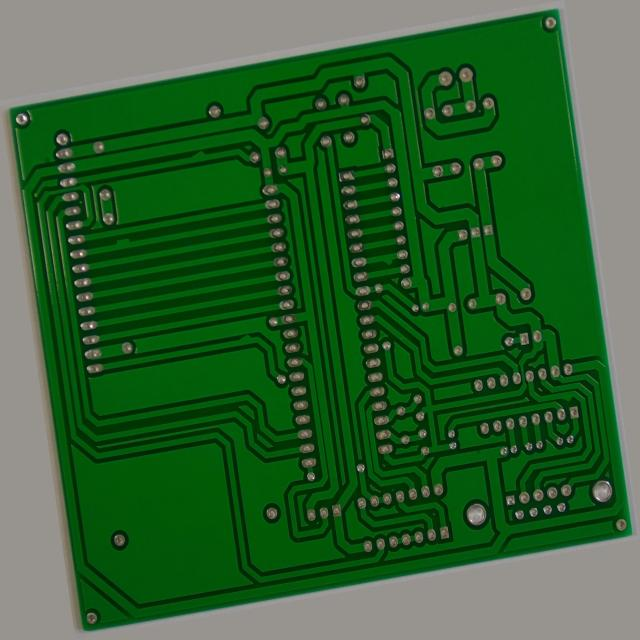spur: (100, 182, 126, 198), (224, 317, 245, 336), (393, 255, 413, 274), (571, 451, 589, 469), (202, 97, 222, 113)
